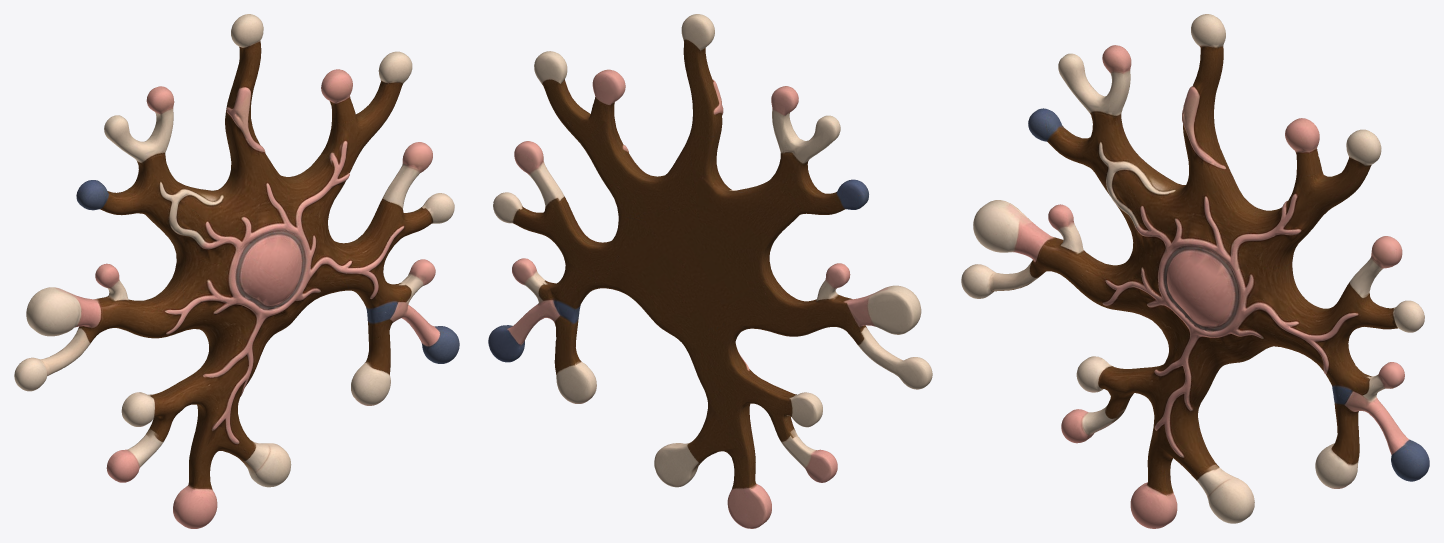
The model's file is cocobrain_neuron_icon.glb.
The picture shows the model from 3 angles, left to right: view 1: azimuth 30°, elevation 25°; view 2: azimuth 150°, elevation 25°; view 3: azimuth 330°, elevation 25°; orthographic projection. The views are drawn at different scales.
Parts seen in each view (by area): view 1: mesh_node; view 2: mesh_node; view 3: mesh_node.
Boxes of the visible parts, x1,y1,x2,y2 form: mesh_node: (14,14,459,528); mesh_node: (488,14,932,528); mesh_node: (961,14,1429,528).
Bounding box in the file's own units: 1.76 × 1.9 × 0.1776.
Materials: 1 (1 with a texture image).
